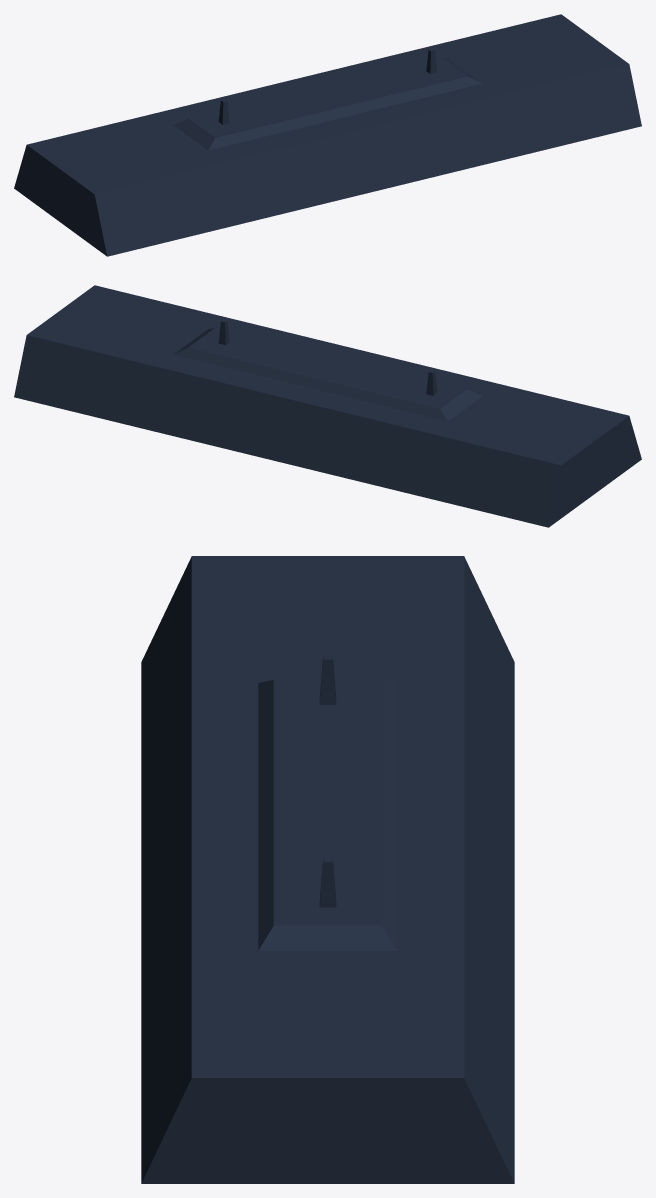
The model's file is Flourescent Light.fbx.
The picture shows the model from 3 angles, top to bottom: view 1: azimuth 30°, elevation 25°; view 2: azimuth 150°, elevation 25°; view 3: azimuth 270°, elevation 25°; orthographic projection. The views are drawn at different scales.
Parts seen in each view (by area): view 1: Cube; view 2: Cube; view 3: Cube.
Boxes of the visible parts, box(x1,y1,x2,y2) form: Cube: box(14, 14, 641, 256); Cube: box(14, 285, 641, 527); Cube: box(141, 556, 514, 1183).
Size of the model in its own units: 662 by 97 by 200.
